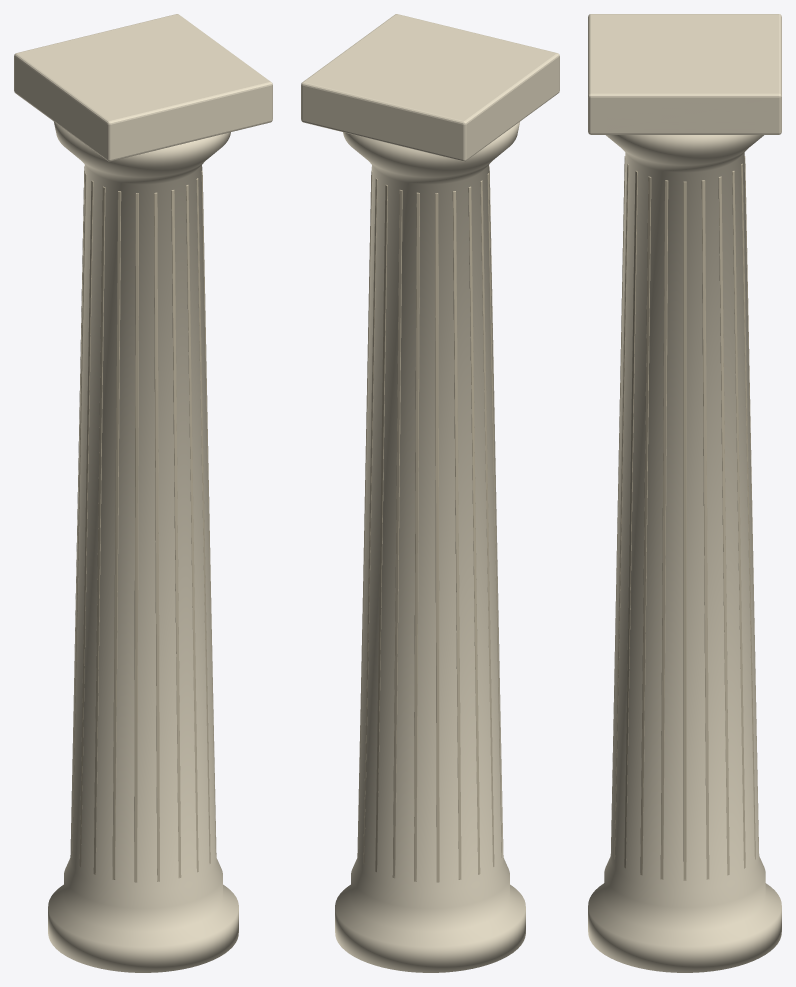
Rendered from column.glb.
3 views of the same model, side by side, from view 1: azimuth 30°, elevation 25°; view 2: azimuth 150°, elevation 25°; view 3: azimuth 270°, elevation 25° (orthographic).
Visible parts, largest first — view 1: Column abacus.001, Shallow column fluting accent.020; view 2: Column abacus.001, Shallow column fluting accent.020; view 3: Column abacus.001, Shallow column fluting accent.020.
Boxes of the visible parts, left/top/right/bottom form: Column abacus.001: left=14, top=14, right=272, bottom=972; Shallow column fluting accent.020: left=72, top=165, right=216, bottom=882; Column abacus.001: left=301, top=14, right=559, bottom=972; Shallow column fluting accent.020: left=357, top=165, right=501, bottom=882; Column abacus.001: left=588, top=14, right=781, bottom=972; Shallow column fluting accent.020: left=611, top=156, right=758, bottom=880.
Size of the model in its own units: 0.6 by 3 by 0.6.
